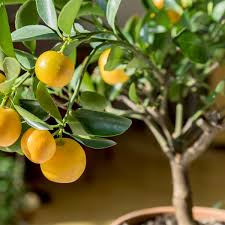orange: (29, 44, 80, 93), (44, 136, 90, 186), (94, 45, 134, 85), (20, 124, 56, 166)
